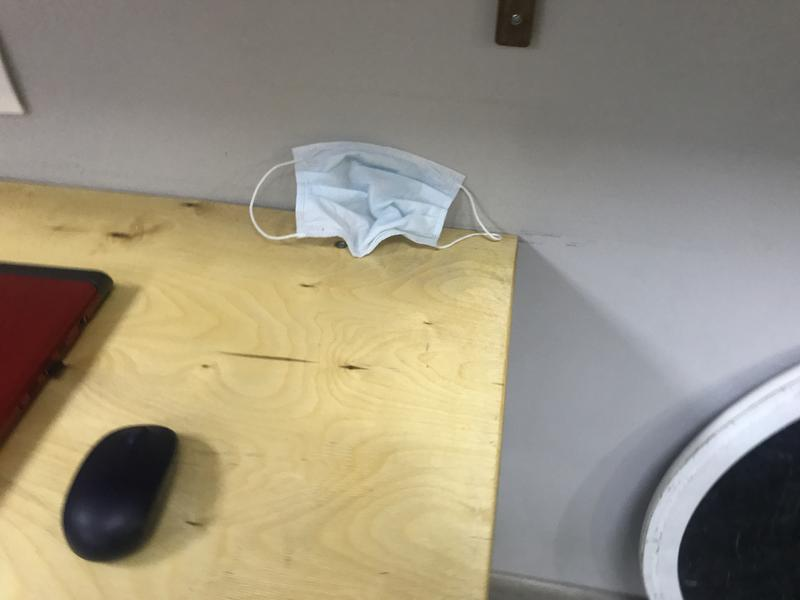medical_mask: (249, 143, 501, 255)
